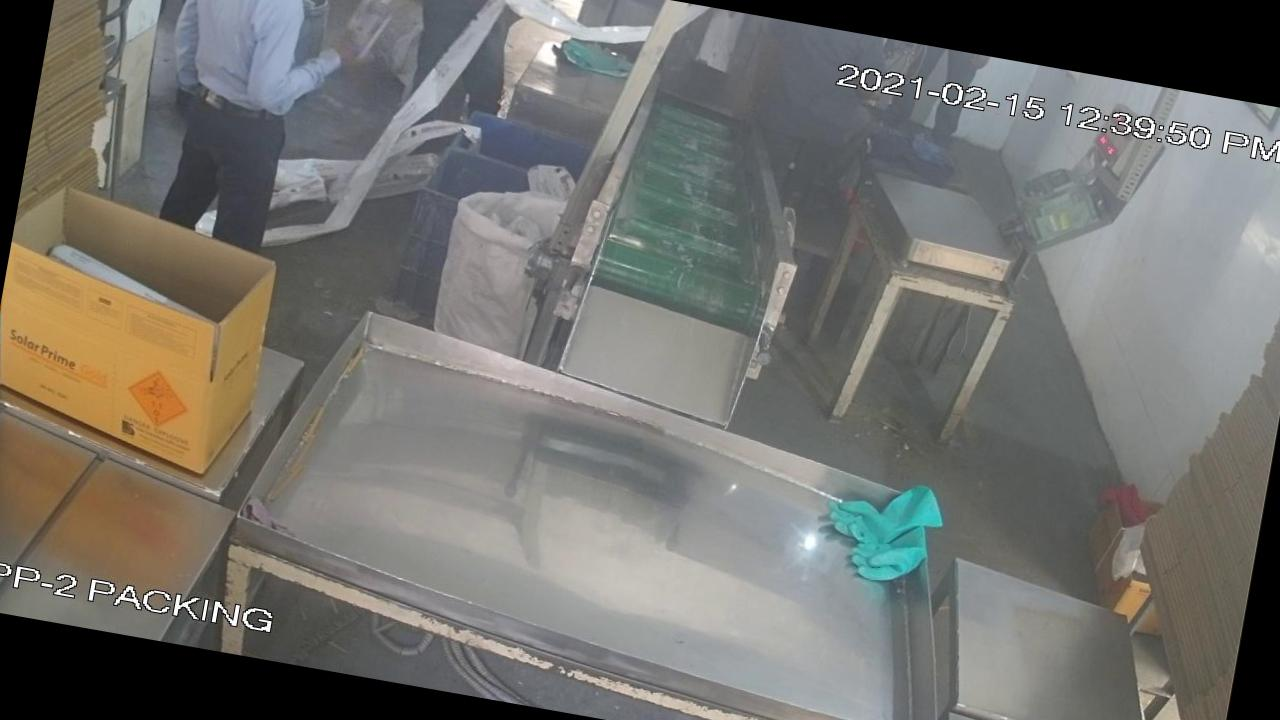Gloves: (813, 471, 951, 596)
No-gloves: (236, 0, 366, 136)
